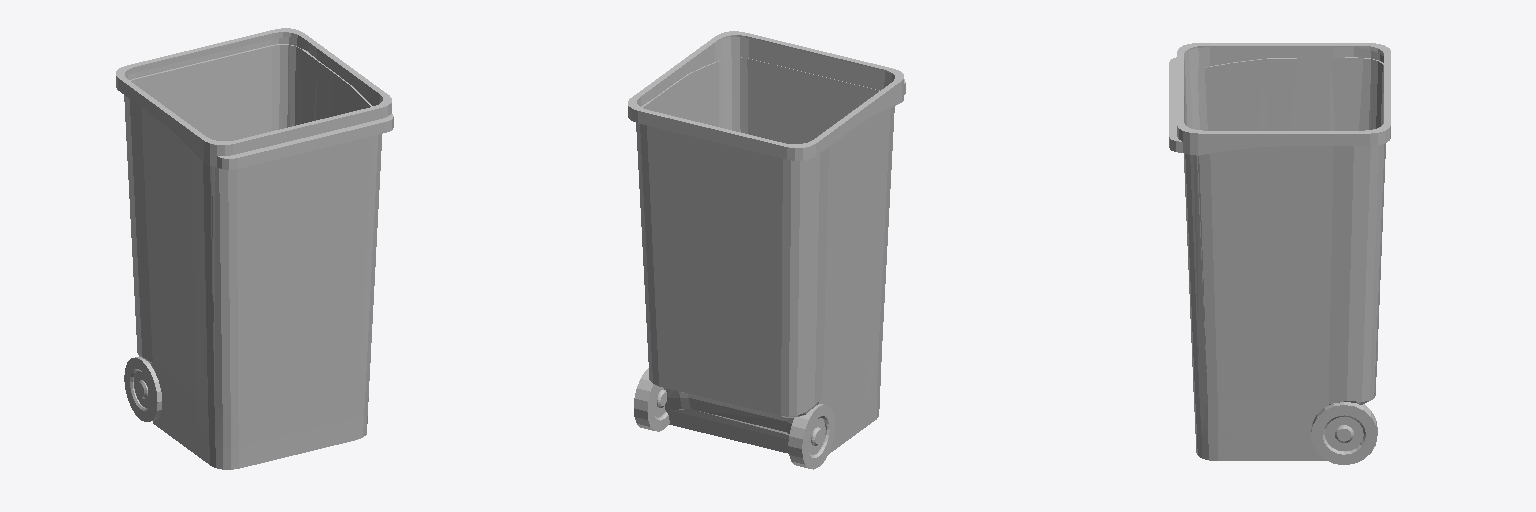
Rendered from garbageBin_1.obj.
3 renders of one model, left to right at view 1: azimuth 30°, elevation 25°; view 2: azimuth 150°, elevation 25°; view 3: azimuth 270°, elevation 25°, orthographic.
Visible parts, largest first — view 1: lowPolyGarbageBin; view 2: lowPolyGarbageBin; view 3: lowPolyGarbageBin.
Part boxes in pixels (left/top/right/bottom): lowPolyGarbageBin: left=116, top=28, right=393, bottom=469; lowPolyGarbageBin: left=628, top=31, right=905, bottom=469; lowPolyGarbageBin: left=1169, top=43, right=1390, bottom=464.
Bounding box in the file's own units: 7.8 × 13.47 × 8.09.